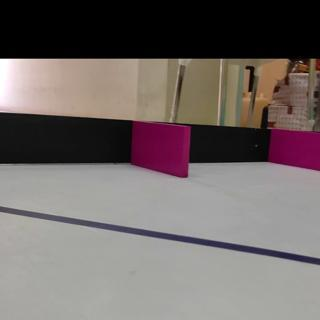xparking: (134, 123, 188, 178), (273, 131, 320, 170)
